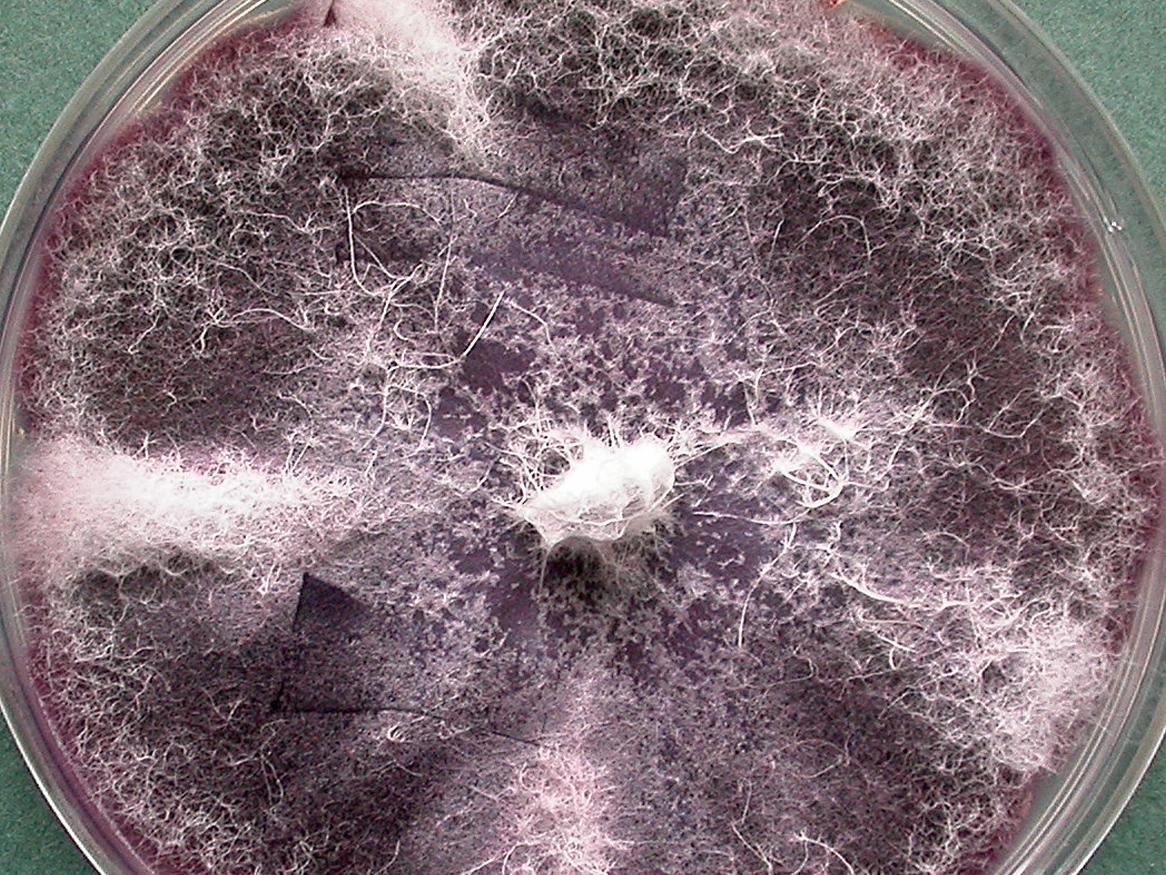Fusarium: (797, 525, 1088, 700), (701, 88, 879, 262), (516, 403, 679, 554), (19, 431, 174, 564), (353, 4, 461, 77)
